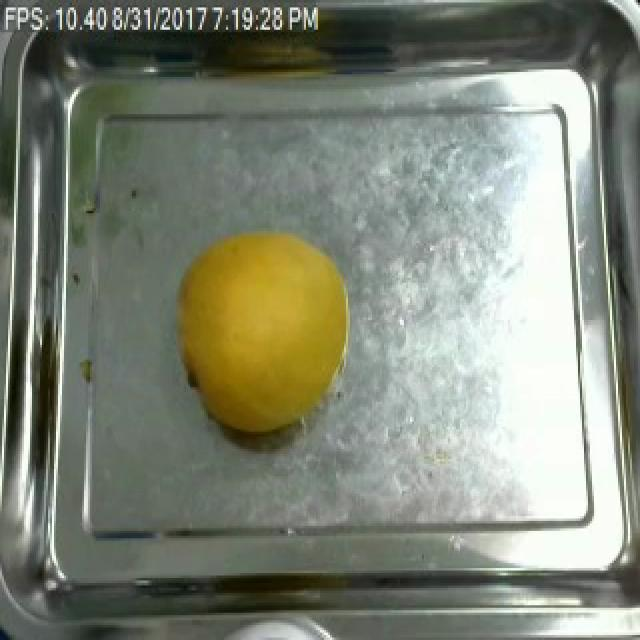fruit: (160, 218, 362, 446)
